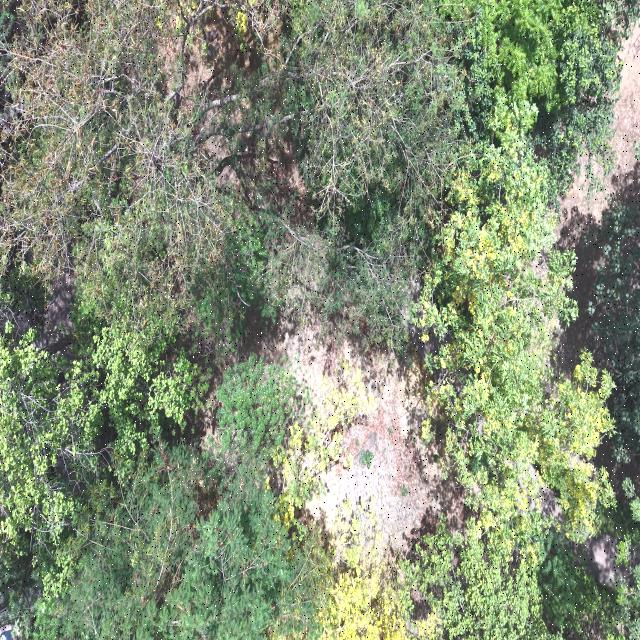DRY_AREA: (185, 317, 463, 550), (197, 316, 464, 549), (198, 314, 463, 547), (228, 320, 463, 548), (237, 317, 464, 549), (246, 320, 464, 548), (246, 320, 463, 548), (252, 320, 463, 552), (273, 322, 463, 548), (280, 323, 463, 548), (555, 25, 639, 369), (557, 25, 639, 368), (558, 25, 639, 244), (159, 2, 280, 126), (20, 268, 73, 349), (594, 437, 639, 507), (585, 534, 627, 585)
VEGETATION_TREE: (0, 0, 639, 639), (2, 2, 618, 344), (2, 1, 460, 336), (2, 327, 330, 637), (416, 94, 613, 539), (32, 377, 329, 639), (1, 1, 233, 331), (287, 1, 462, 345), (33, 443, 328, 639), (1, 312, 198, 601), (402, 511, 627, 639), (588, 198, 639, 636), (401, 510, 548, 639), (589, 200, 639, 462), (538, 533, 624, 639), (215, 355, 294, 458)
